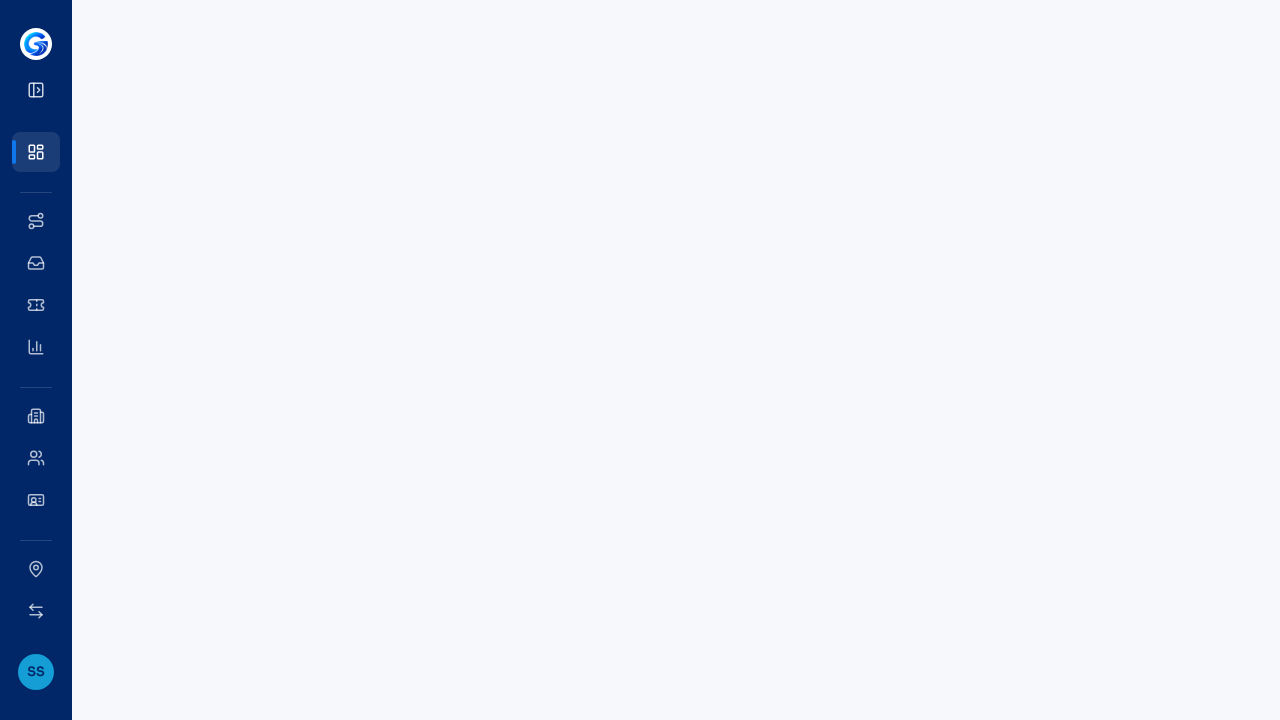
Test: PortalShell: collapsing the sidebar › closes the account on Escape, back to the initials
Click the button named "Your account" at [36, 672], box [12,648,60,696]
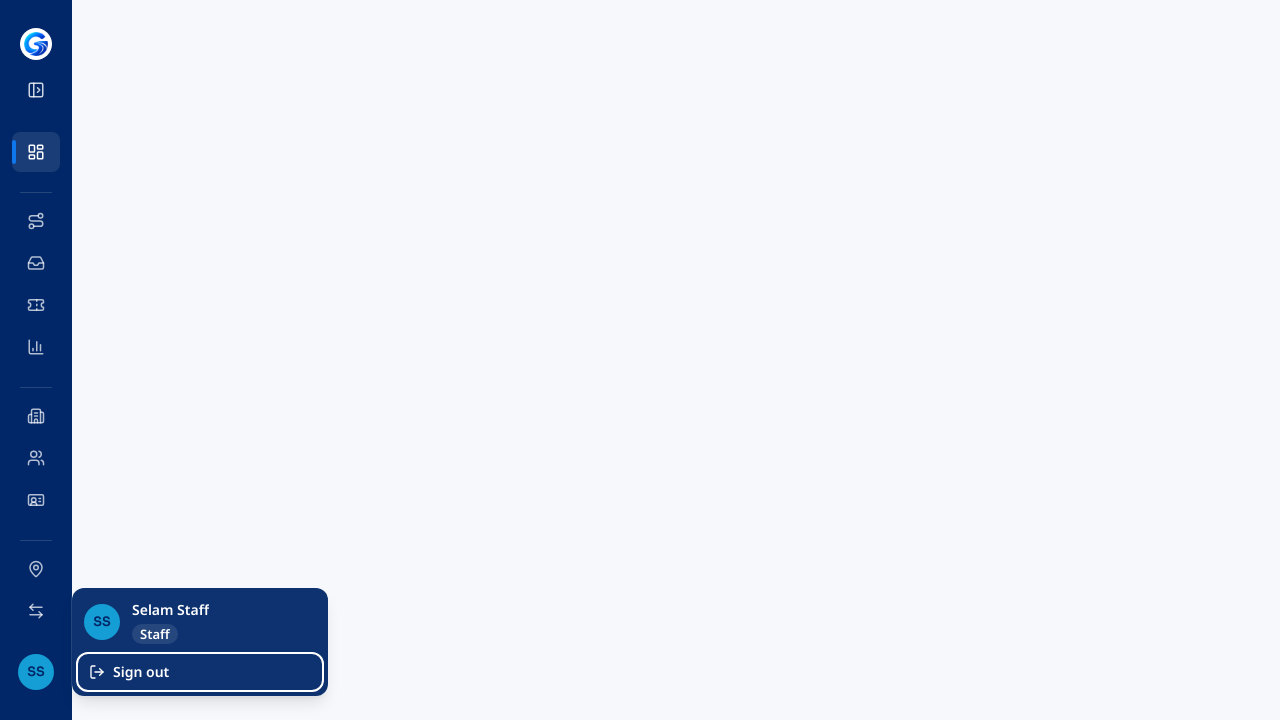
Result: the dialog named "Your account" is shown at [72,588,328,696]
Press Escape
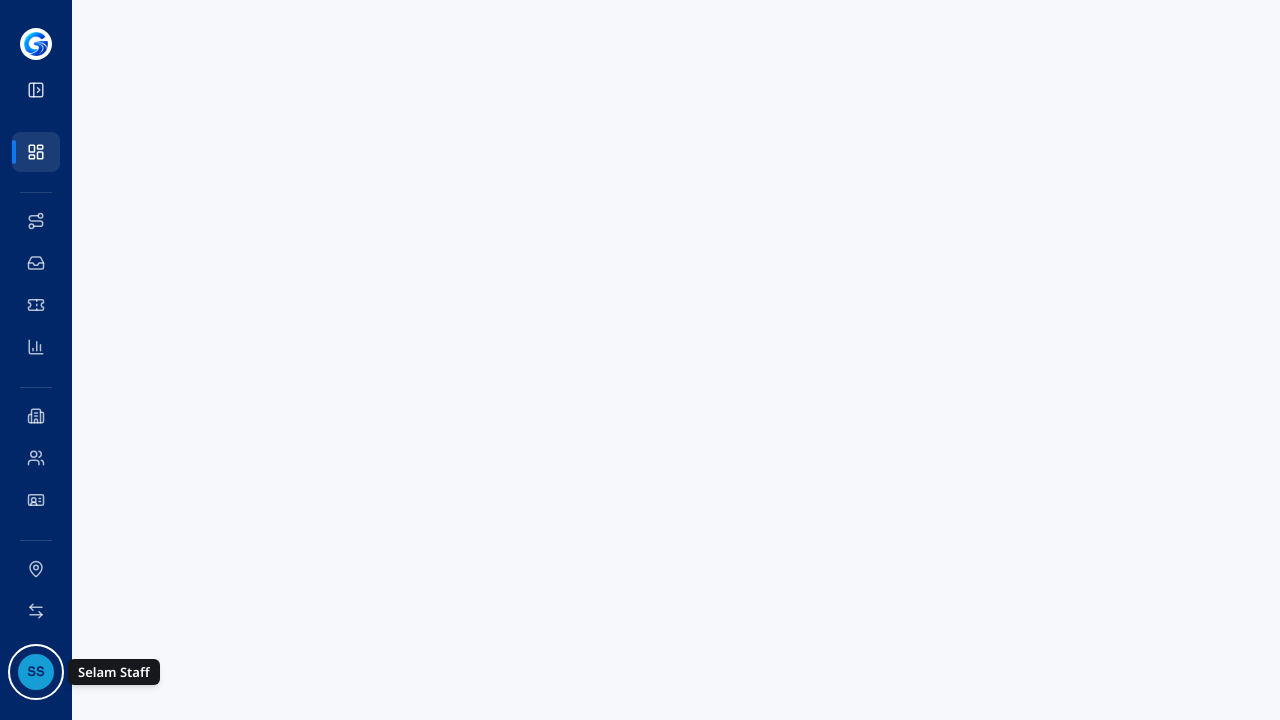
Result: the dialog is gone
